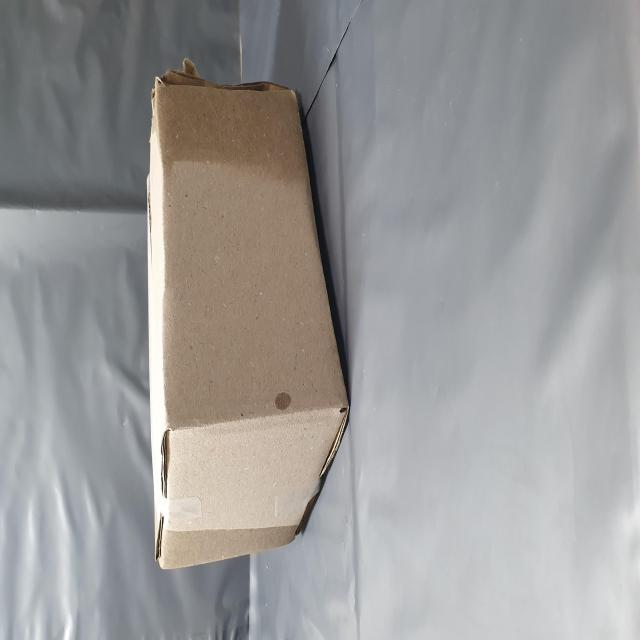wet: (255, 273, 314, 549)
